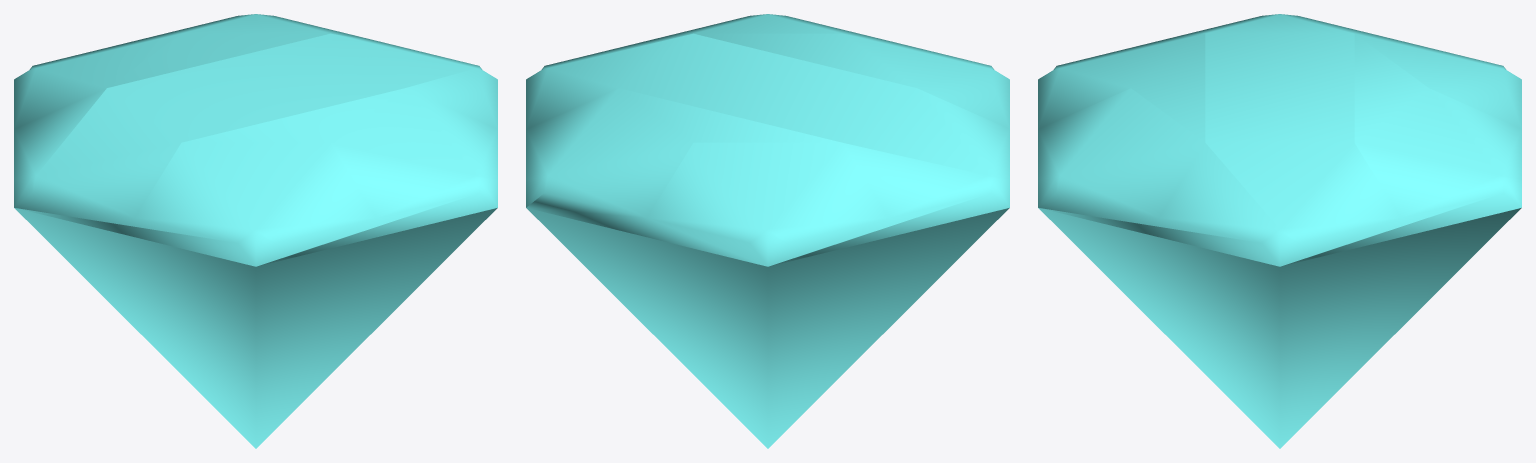
The model's file is Diamond.FBX.
The picture shows the model from 3 angles, left to right: view 1: azimuth 30°, elevation 25°; view 2: azimuth 150°, elevation 25°; view 3: azimuth 270°, elevation 25°; orthographic projection.
Visible parts, largest first — view 1: cone2; view 2: cone2; view 3: cone2.
Part boxes in pixels (x1,y1,x2,y2): cone2: (14, 14, 497, 448); cone2: (526, 14, 1009, 448); cone2: (1038, 14, 1521, 448).
Size of the model in its own units: 0.4511 by 0.3215 by 0.3907.
Materials: 1 (1 with a texture image).
